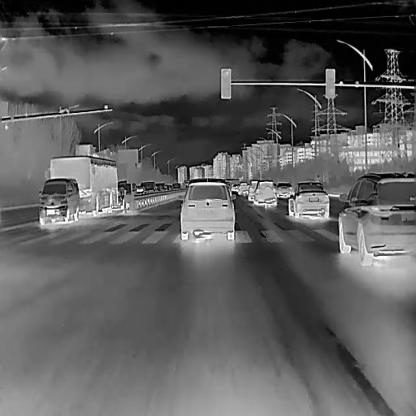car: (337, 171, 415, 266), (177, 178, 236, 239), (288, 181, 330, 217), (116, 181, 138, 210), (253, 180, 277, 204), (115, 185, 127, 214), (276, 182, 292, 198), (248, 180, 258, 202), (140, 180, 154, 192), (238, 182, 248, 198), (154, 182, 164, 191), (135, 186, 146, 194), (171, 182, 181, 189), (231, 183, 239, 191), (164, 184, 172, 190)
truck: (38, 155, 118, 225)
